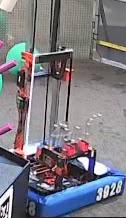blue_number: (93, 178, 125, 203)
